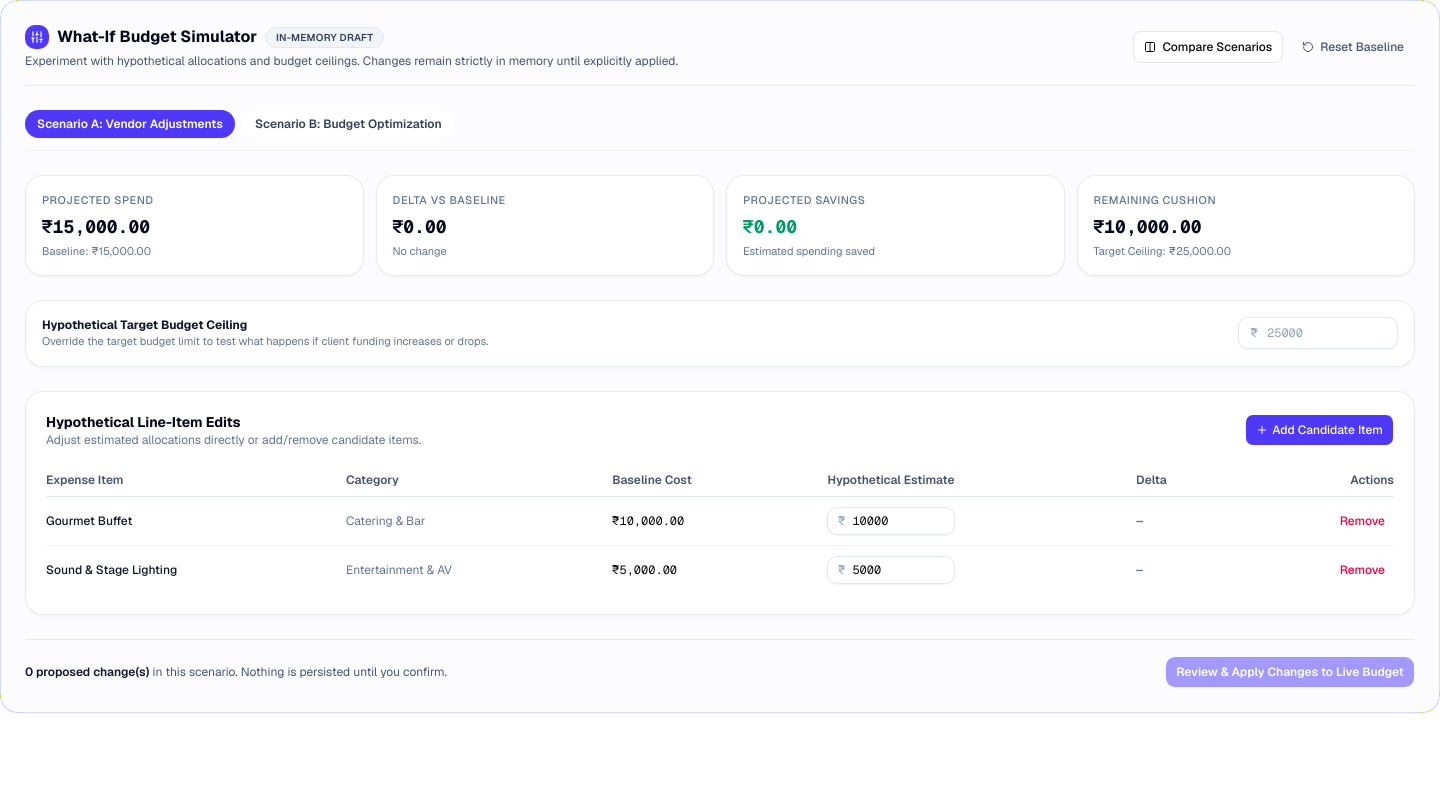
Test: WhatIfSimulator Component › Comparison Matrix & Baseline Reset › resets active scenario to baseline values when clicking Reset Baseline
This screenshot has width=1440, height=810.
Clear the number field named "Adjust estimated amount for Gourmet Buffet": (891,520) 827,506 -> 955,534
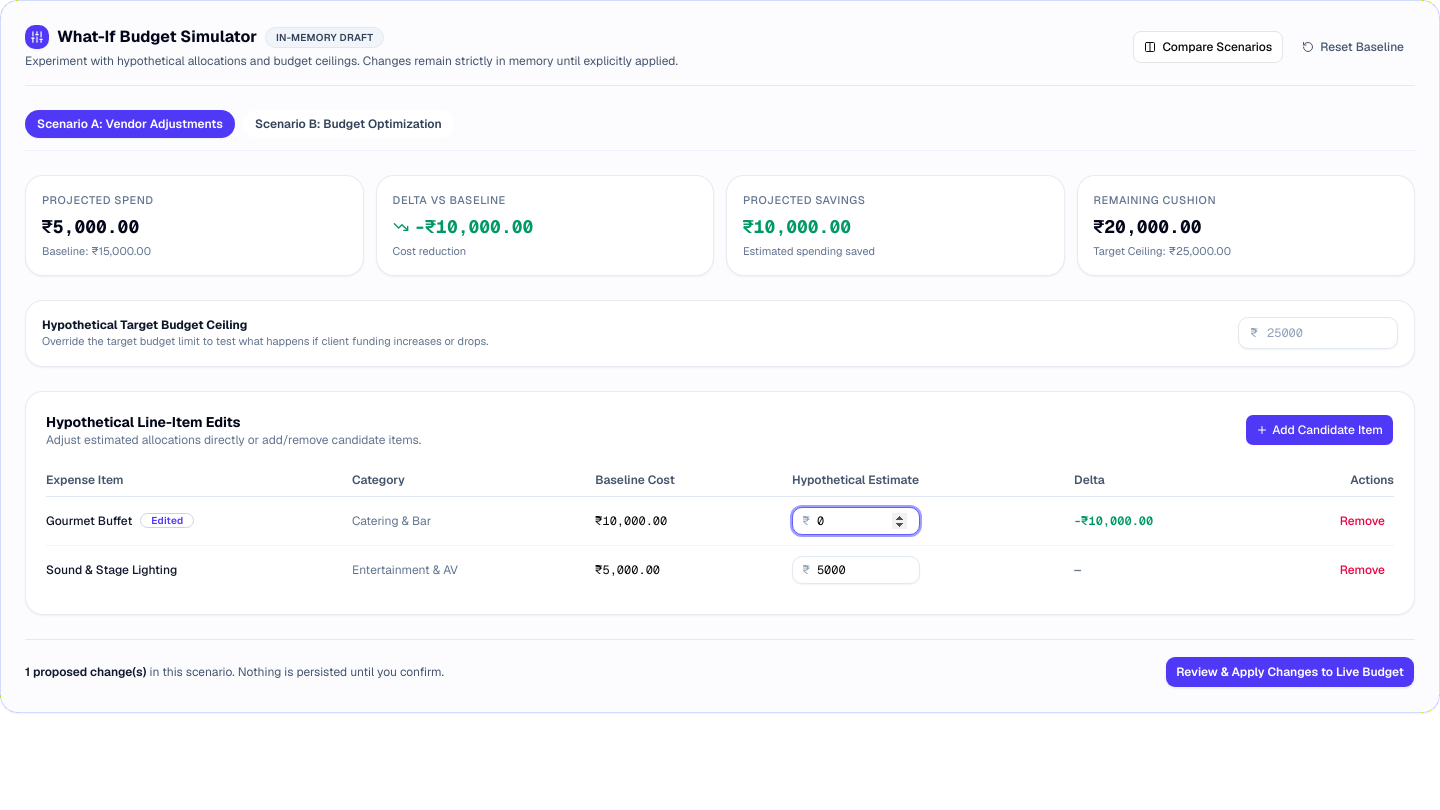
In the number field named "Adjust estimated amount for Gourmet Buffet": (856,520) 792,506 -> 920,534, type "20000"
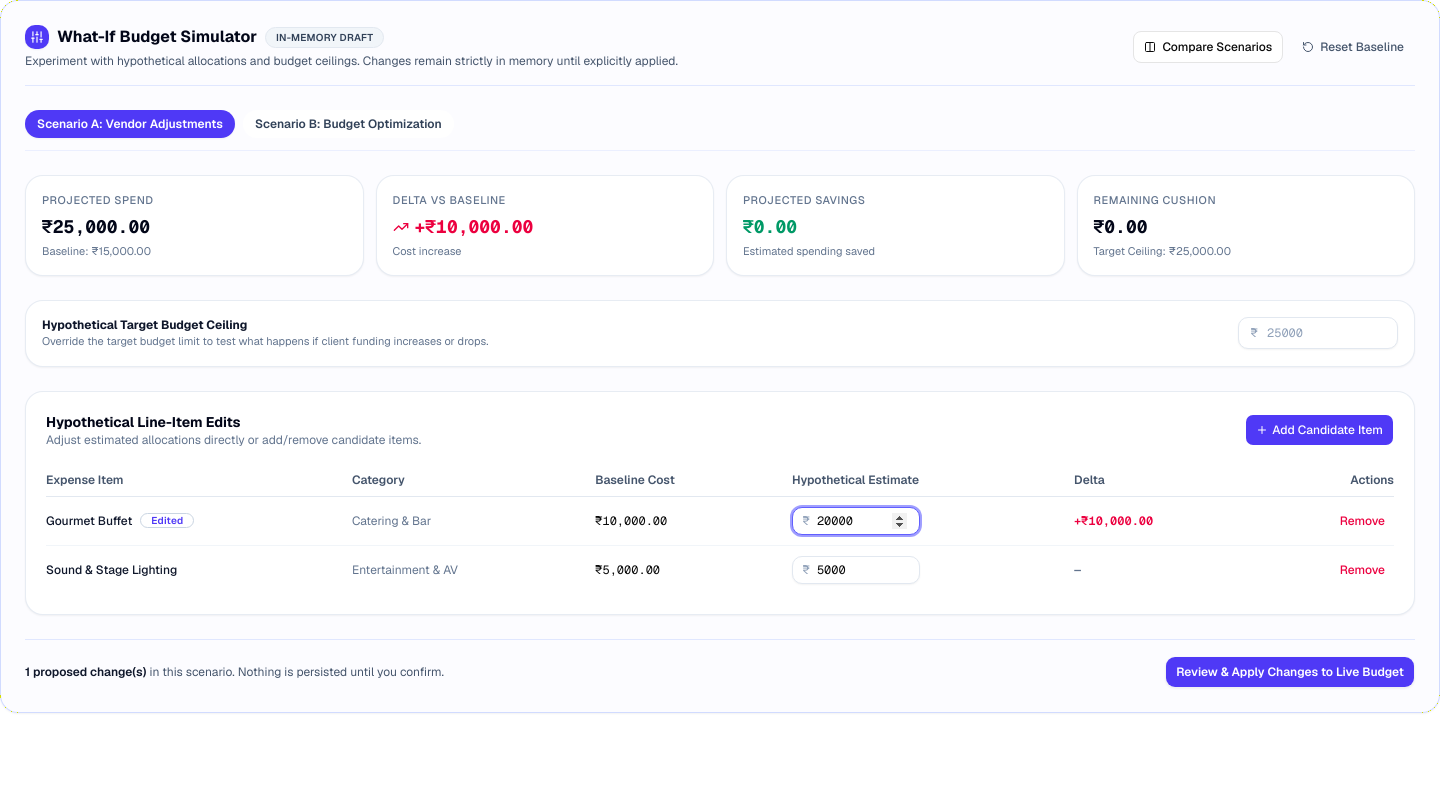
Check: the text "1 proposed change(s)" is shown, box 25,664 -> 146,680
Click the button "Reset Baseline": (1353,47) 1291,31 -> 1415,63
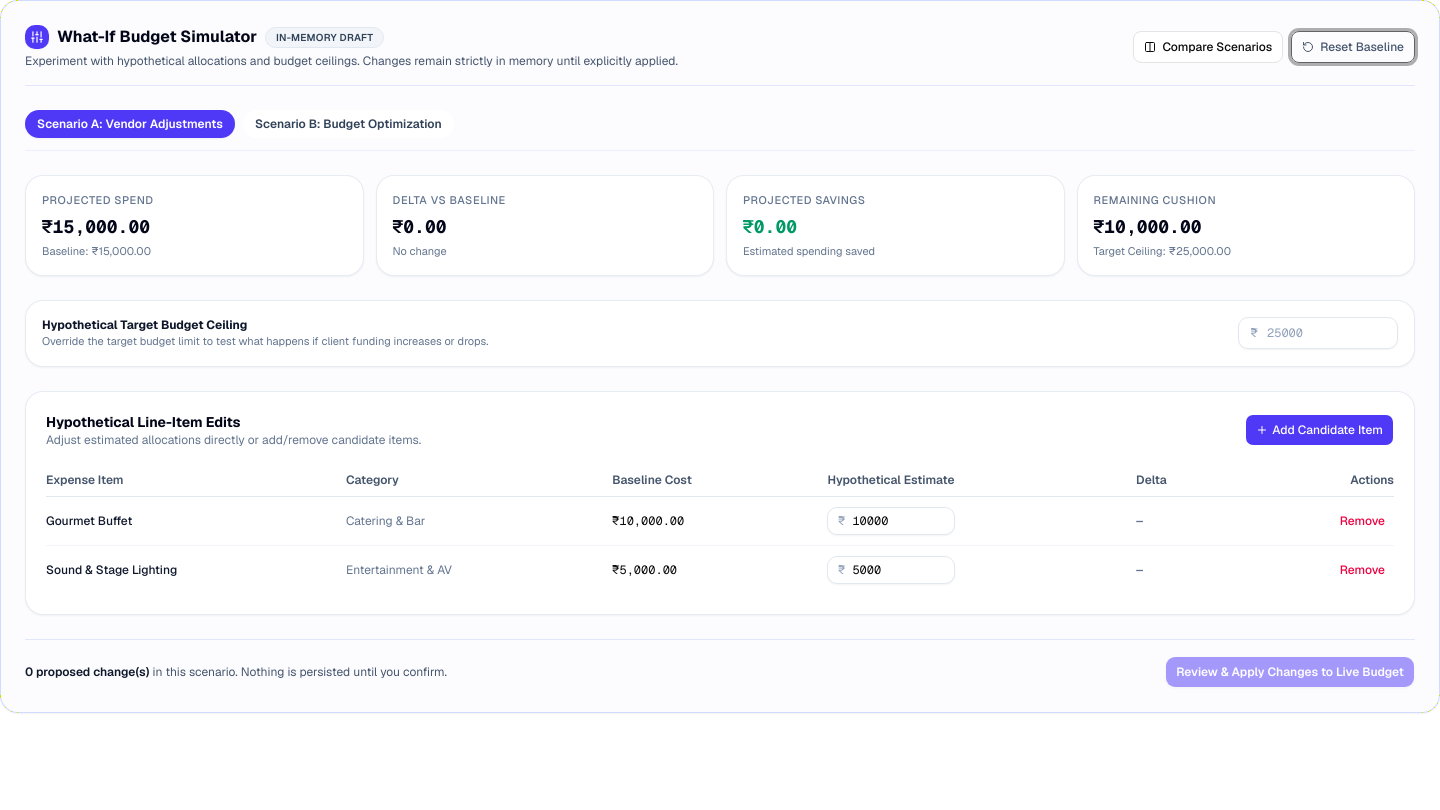
Check: the text "0 proposed change(s)" is shown, box 25,664 -> 149,680
Check: the text "₹15,000.00" is shown, box 42,214 -> 150,238
